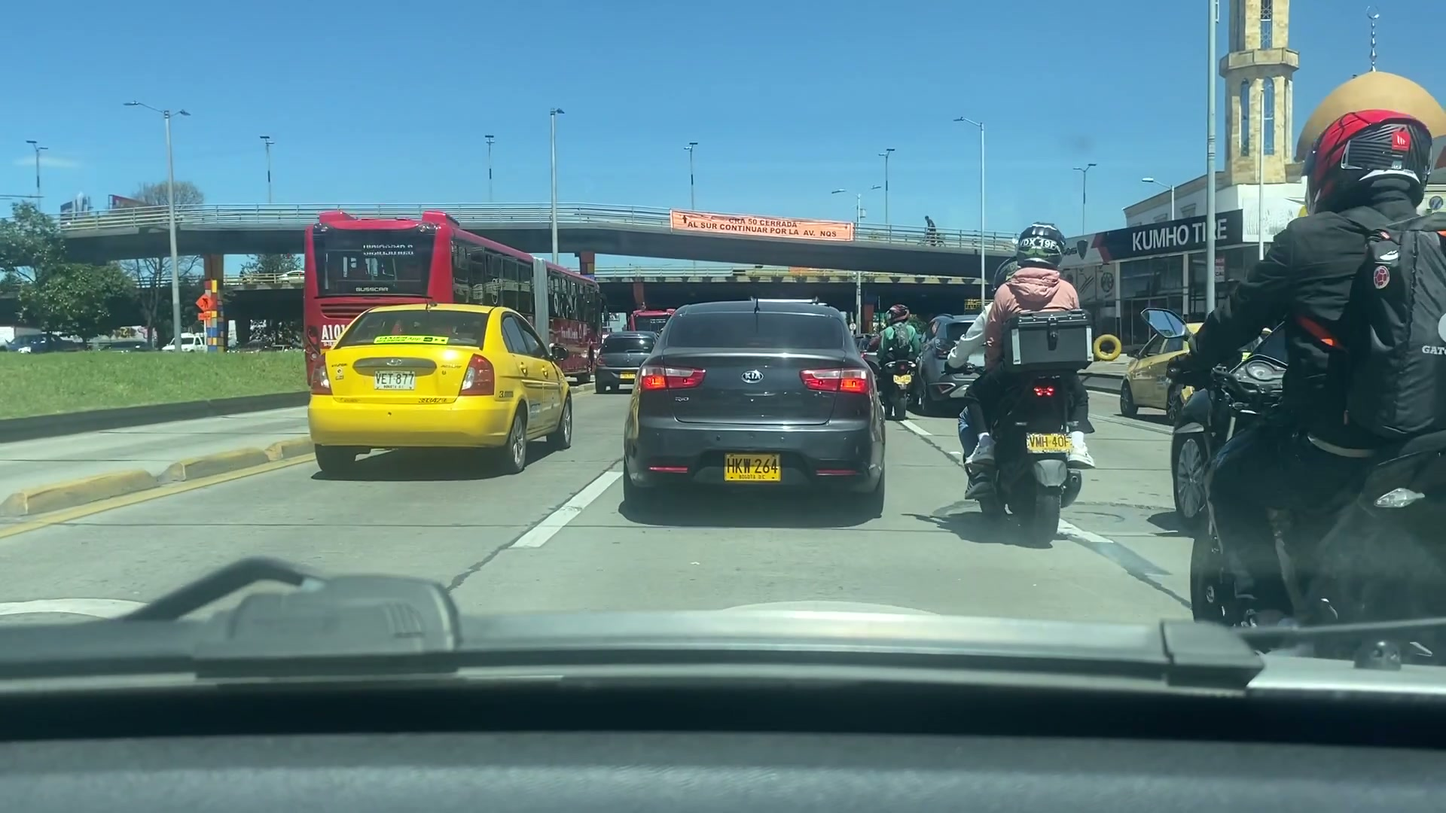bus: (299, 210, 604, 391)
car: (620, 303, 887, 516), (312, 303, 576, 472), (1117, 313, 1262, 414), (597, 332, 660, 393)
motorcycle: (1135, 299, 1446, 651), (942, 356, 1098, 550), (878, 356, 917, 424)
person: (1186, 112, 1443, 594), (966, 223, 1095, 467), (880, 303, 923, 411)
